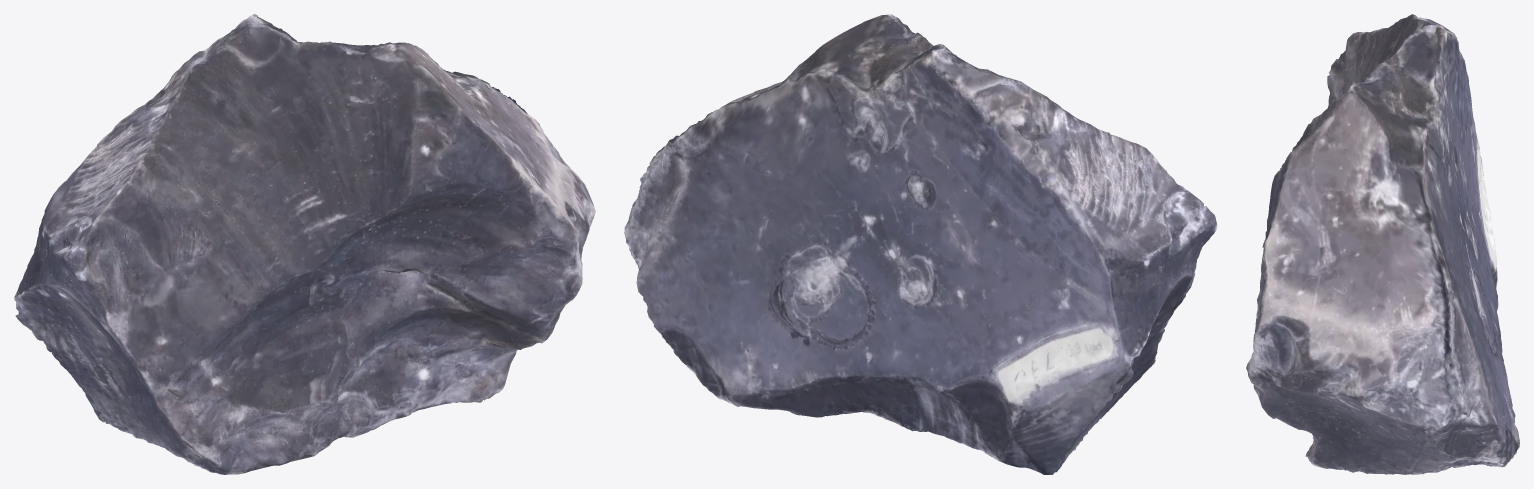
Rendered from obsidian.glb.
3 renders of one model, left to right at view 1: azimuth 30°, elevation 25°; view 2: azimuth 150°, elevation 25°; view 3: azimuth 270°, elevation 25°, orthographic. The views are drawn at different scales.
Parts seen in each view (by area): view 1: Object_2; view 2: Object_2; view 3: Object_2.
Part boxes in pixels (left/top/right/bottom): Object_2: left=14, top=14, right=595, bottom=474; Object_2: left=624, top=14, right=1217, bottom=474; Object_2: left=1246, top=14, right=1519, bottom=474.
Size of the model in its own units: 7.21 by 4.9 by 3.3.
Materials: 1 (1 with a texture image).
